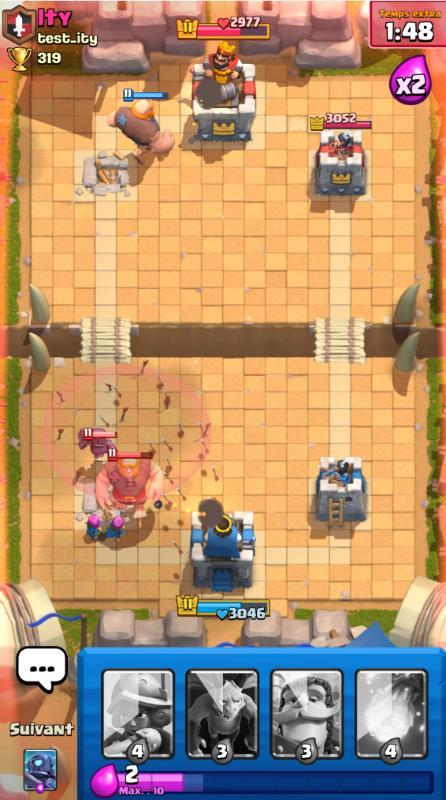archere: (84, 514, 110, 542), (105, 513, 129, 543)
geant: (107, 88, 176, 165), (96, 448, 165, 518)
mini_PEKKA: (77, 427, 119, 460)
